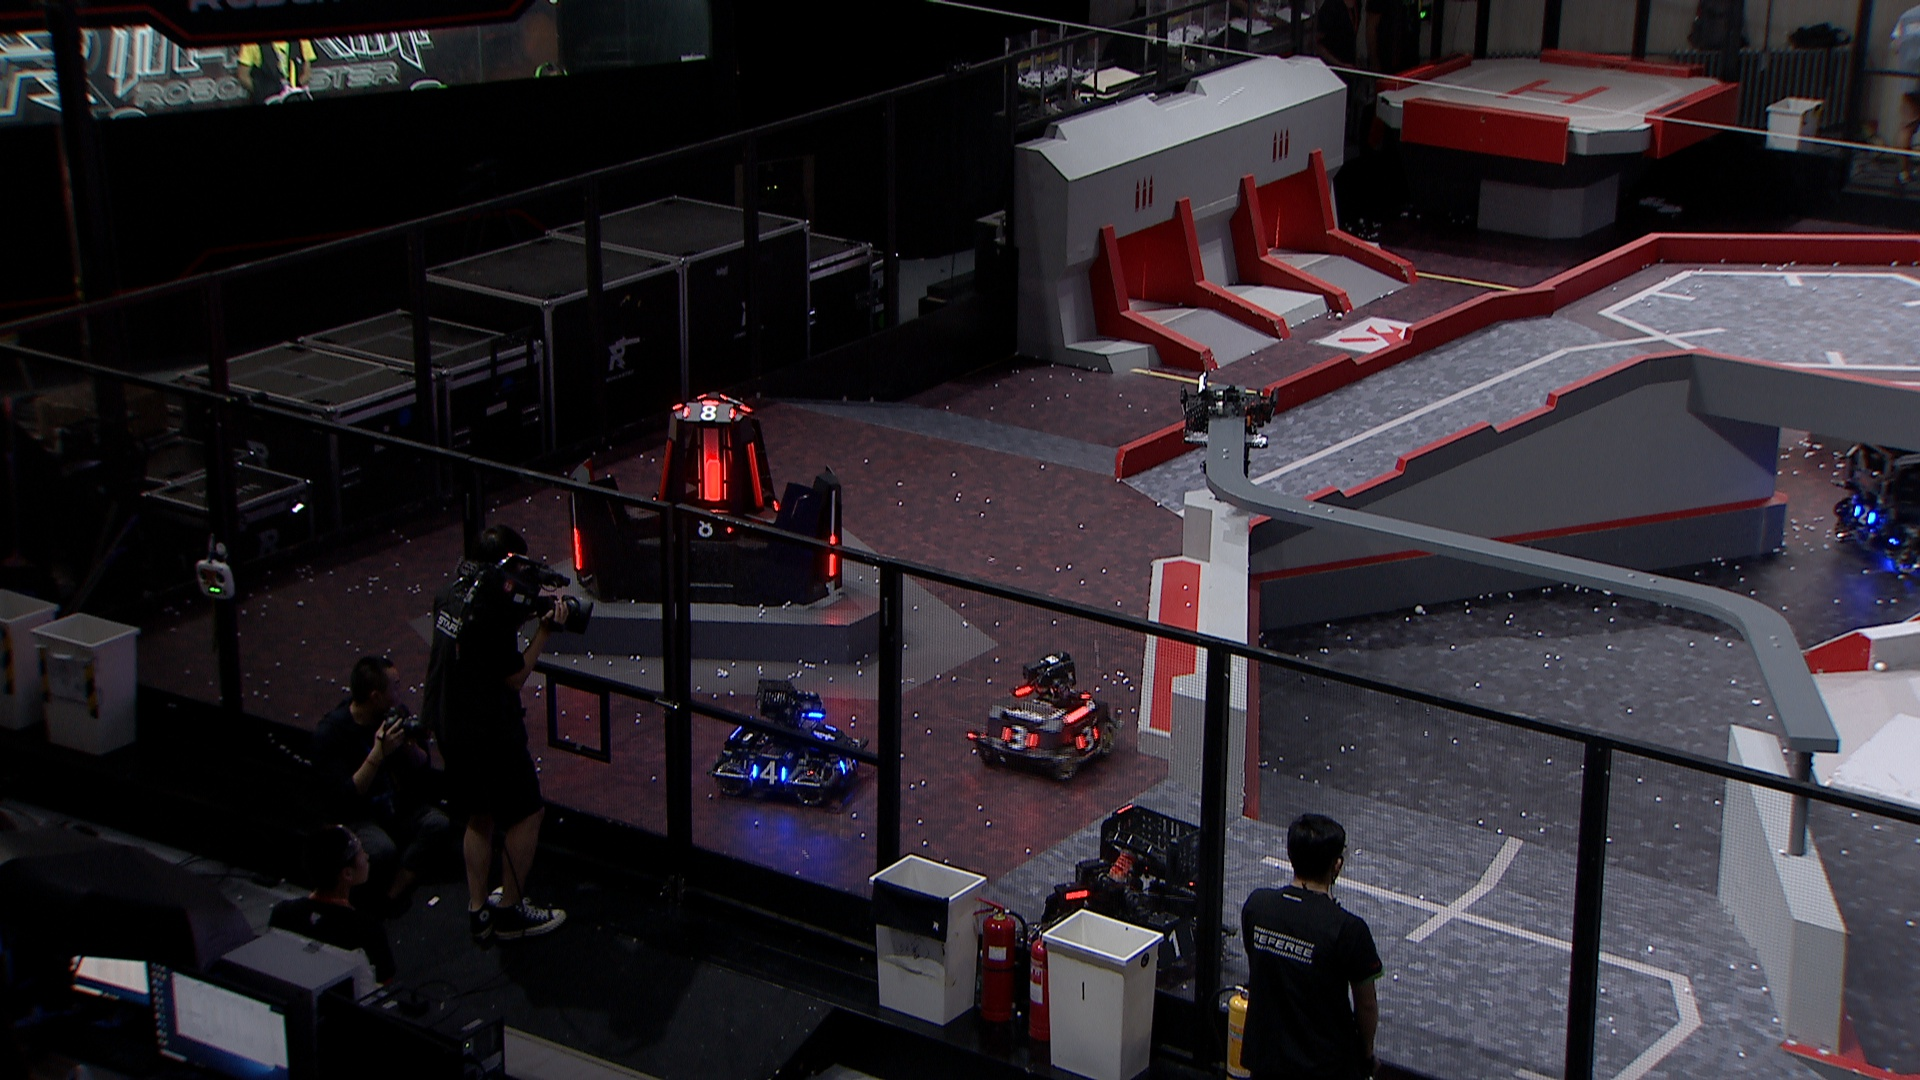armor: (1156, 924, 1197, 963), (746, 440, 765, 509), (700, 458, 727, 502), (655, 436, 673, 501), (680, 517, 731, 538), (680, 401, 735, 419), (1001, 723, 1034, 750), (752, 761, 787, 783), (1850, 498, 1876, 527), (825, 533, 840, 578), (1077, 727, 1102, 750), (571, 526, 584, 570), (808, 725, 833, 746), (840, 752, 860, 773)
base: (568, 385, 847, 609)
car: (1034, 803, 1242, 982), (971, 650, 1117, 785), (708, 678, 865, 803), (1826, 419, 1920, 582)
watcher: (1174, 365, 1283, 484)
